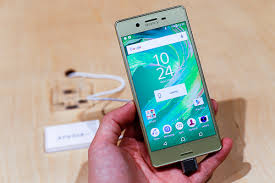sony: (112, 3, 225, 178)
